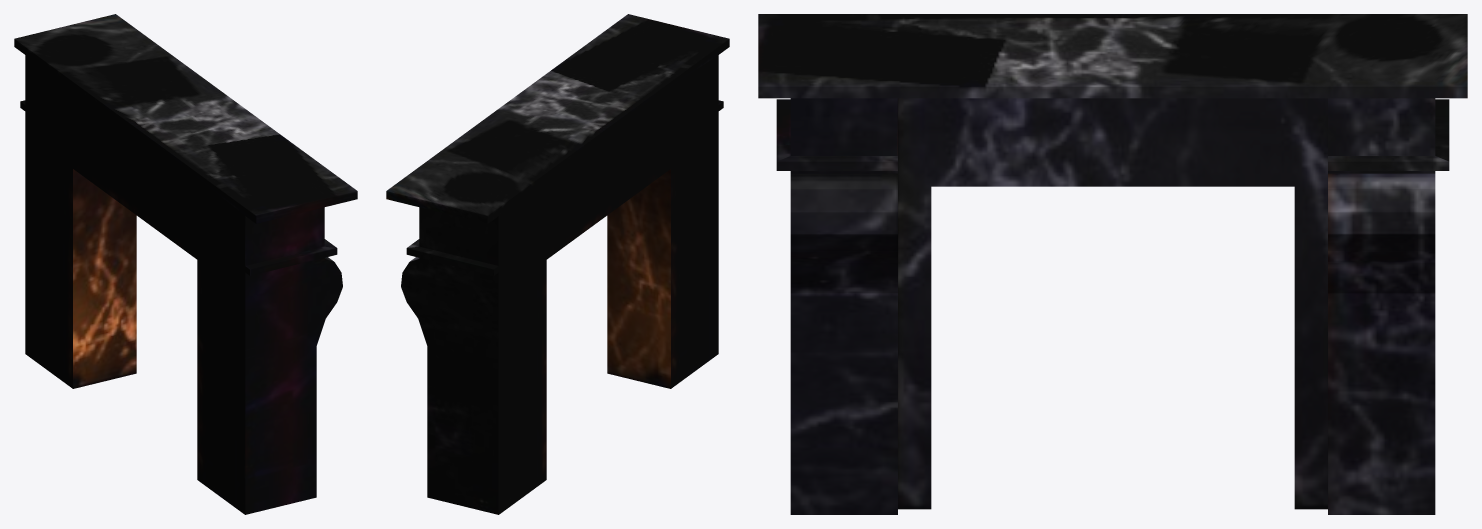
File: chimney.glb
The picture shows the model from 3 angles, left to right: view 1: azimuth 30°, elevation 25°; view 2: azimuth 150°, elevation 25°; view 3: azimuth 270°, elevation 25°; orthographic projection. The views are drawn at different scales.
Parts seen in each view (by area): view 1: chimney; view 2: chimney; view 3: chimney.
Part boxes in pixels (x1,y1,x2,y2): chimney: (14,14,357,514); chimney: (386,14,729,514); chimney: (758,14,1467,514).
Bounding box in the file's own units: 2.46 × 7.1 × 10.14.
1 material, 1 textured.
